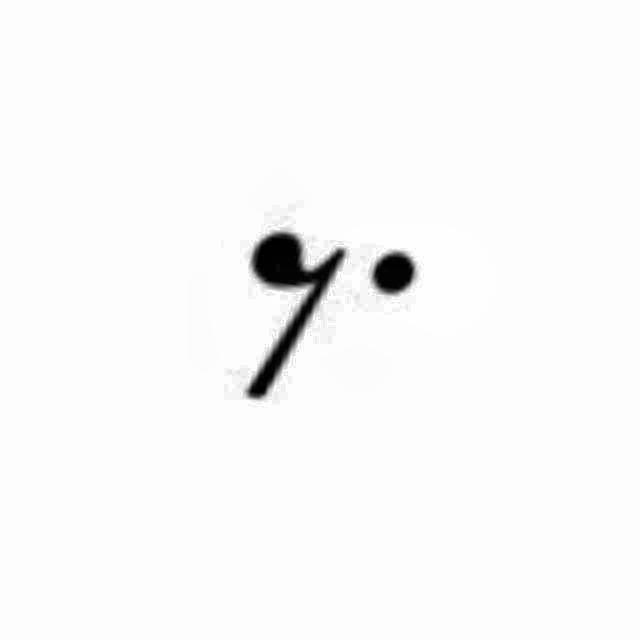Eighth-rest: (183, 200, 449, 416)
